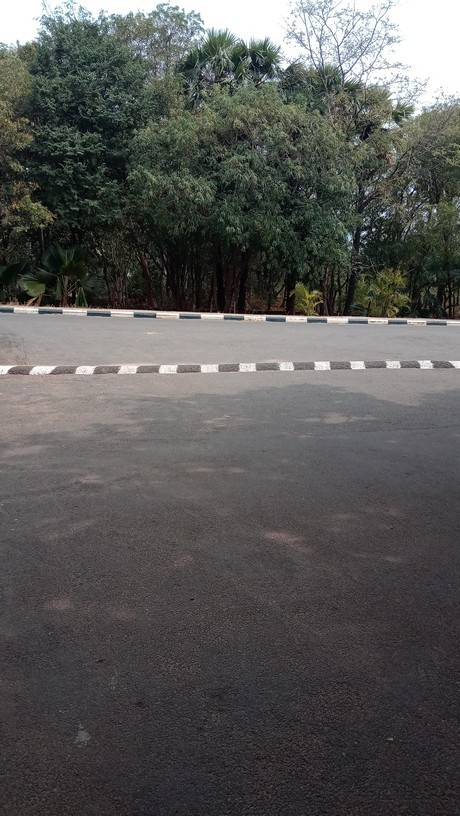bump: (1, 357, 459, 379)
